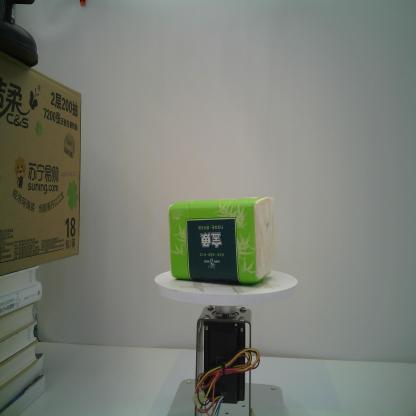Tissue: (168, 196, 274, 284)
